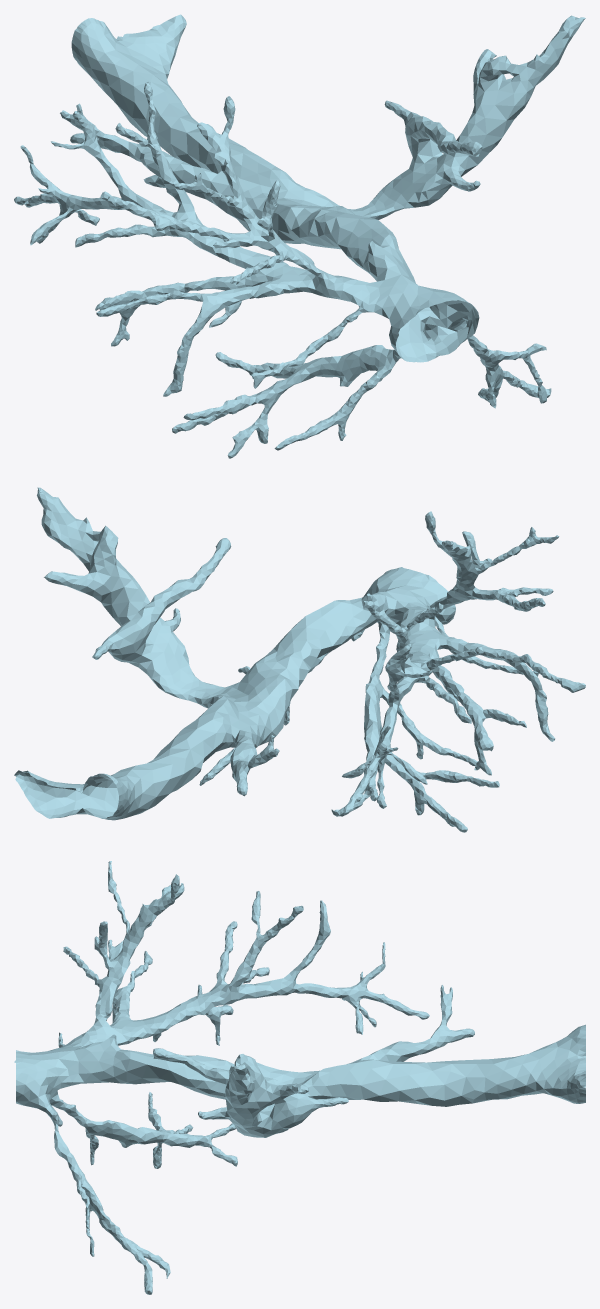
The model's file is venoussystem.obj.
The picture shows the model from 3 angles, top to bottom: view 1: azimuth 30°, elevation 25°; view 2: azimuth 150°, elevation 25°; view 3: azimuth 270°, elevation 25°; orthographic projection. The views are drawn at different scales.
Parts seen in each view (by area): view 1: grp1; view 2: grp1; view 3: grp1.
Boxes of the visible parts, <box> form: grp1: <box>14,14,585,458</box>; grp1: <box>14,487,585,832</box>; grp1: <box>14,861,585,1294</box>.
Bounding box in the file's own units: 184 × 119 × 204.
